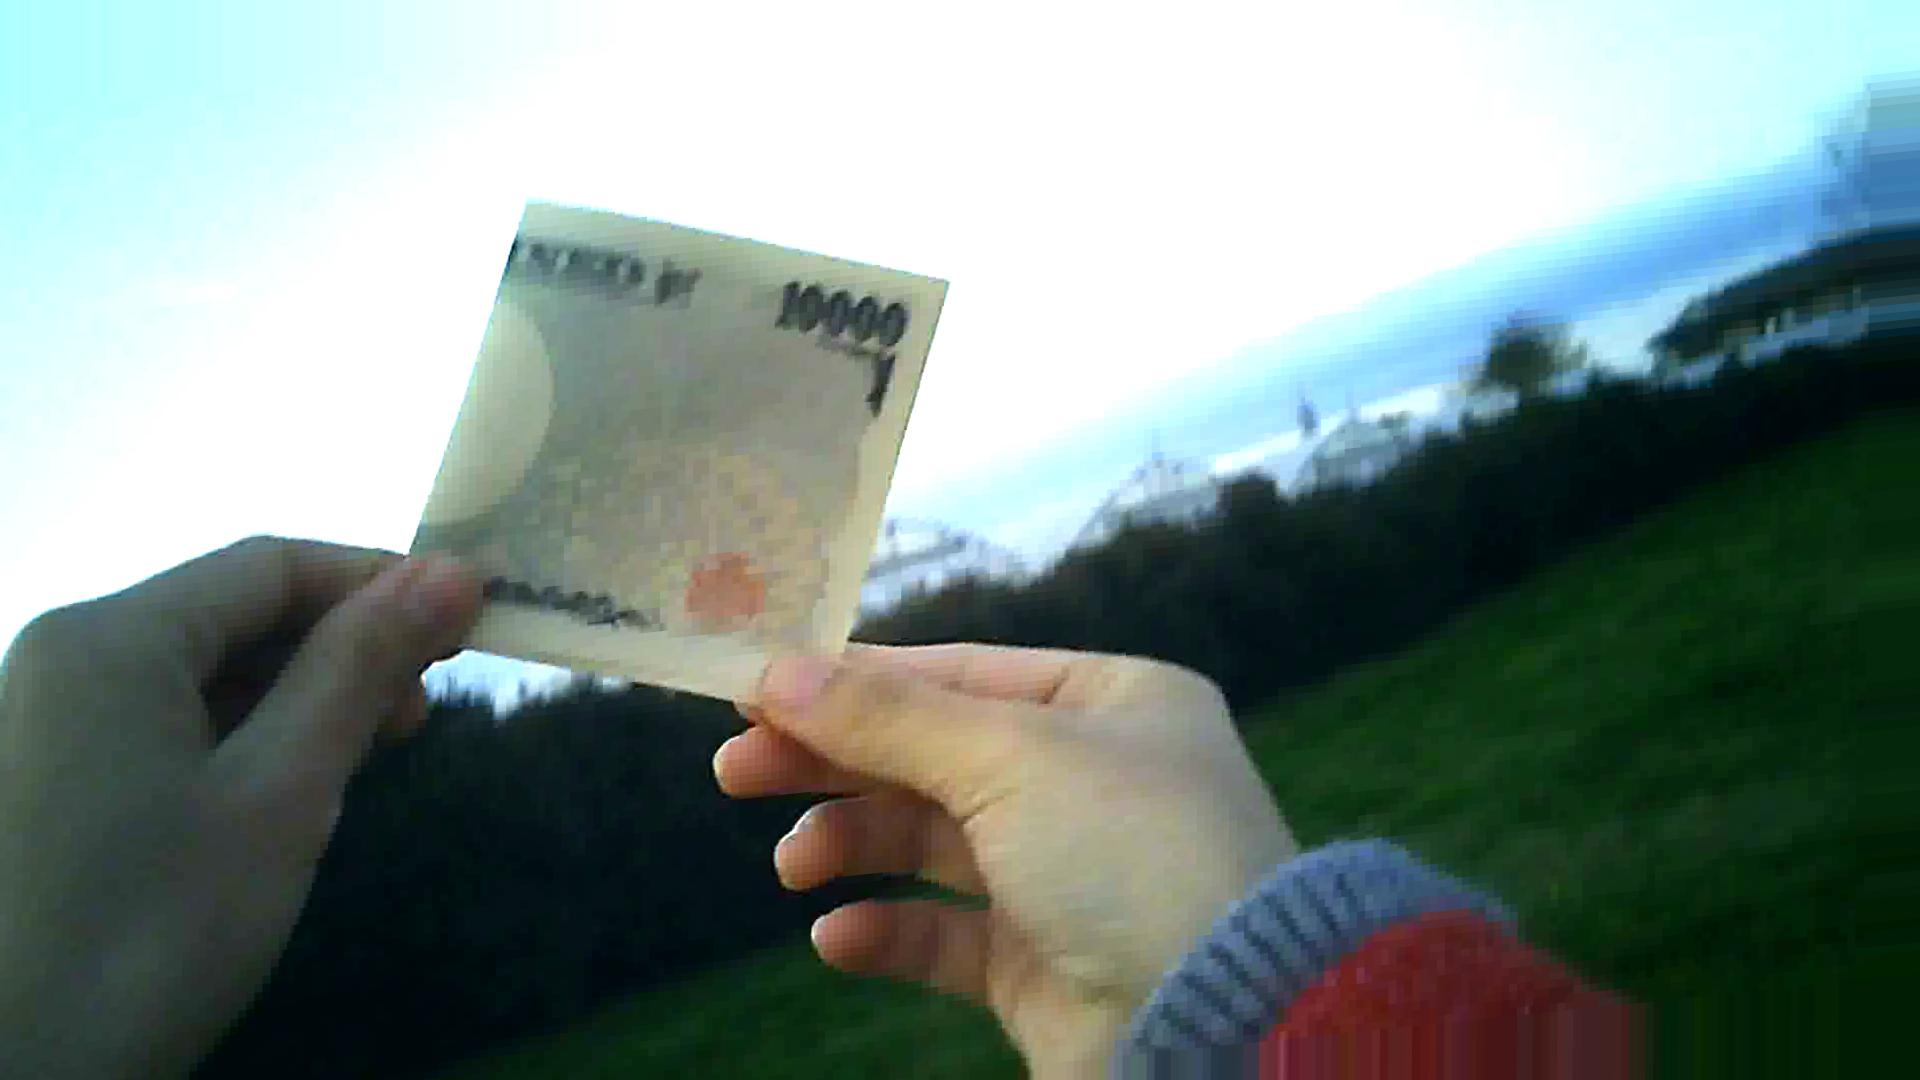10,000 Yen: (367, 179, 961, 787)
